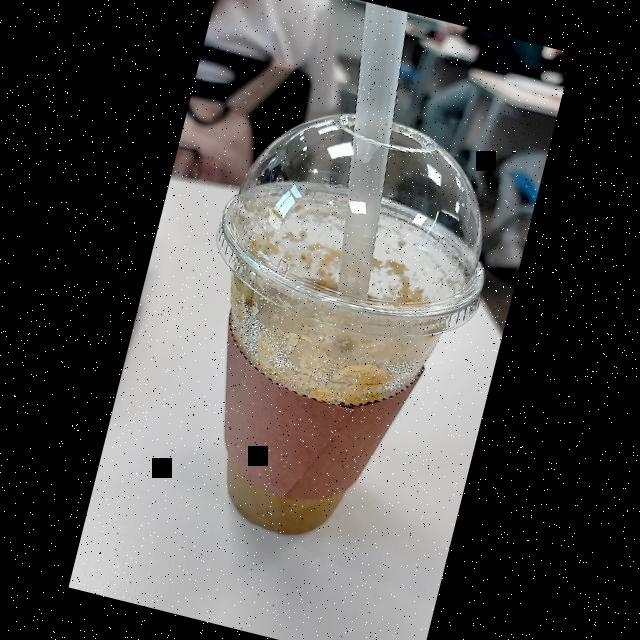plastic_cup: (146, 82, 522, 571)
plastic_cup_lid: (200, 82, 520, 360)
straw: (286, 0, 455, 309)
